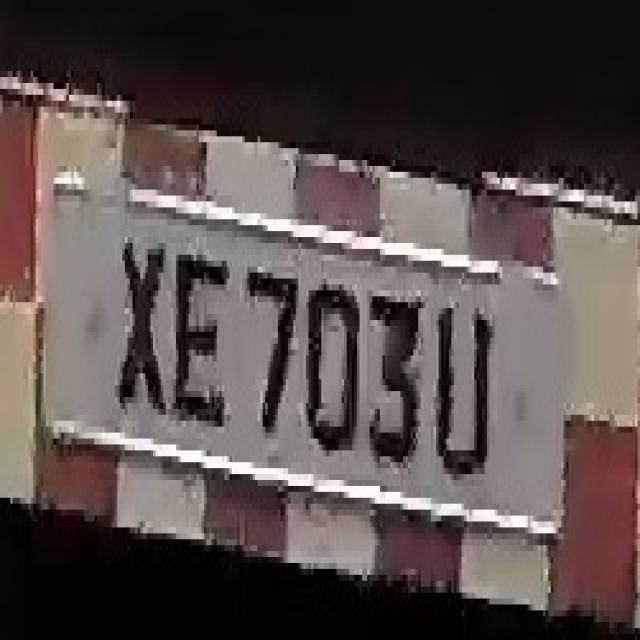0: (306, 249, 359, 468)
3: (370, 261, 426, 474)
7: (242, 249, 298, 456)
E: (173, 225, 227, 433)
U: (431, 284, 492, 492)
X: (110, 208, 166, 432)
